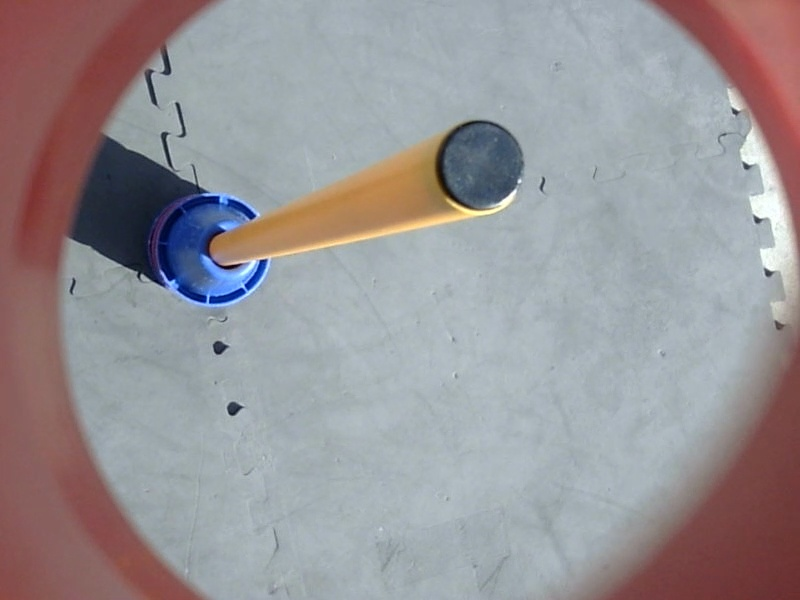tip: (429, 114, 532, 219)
